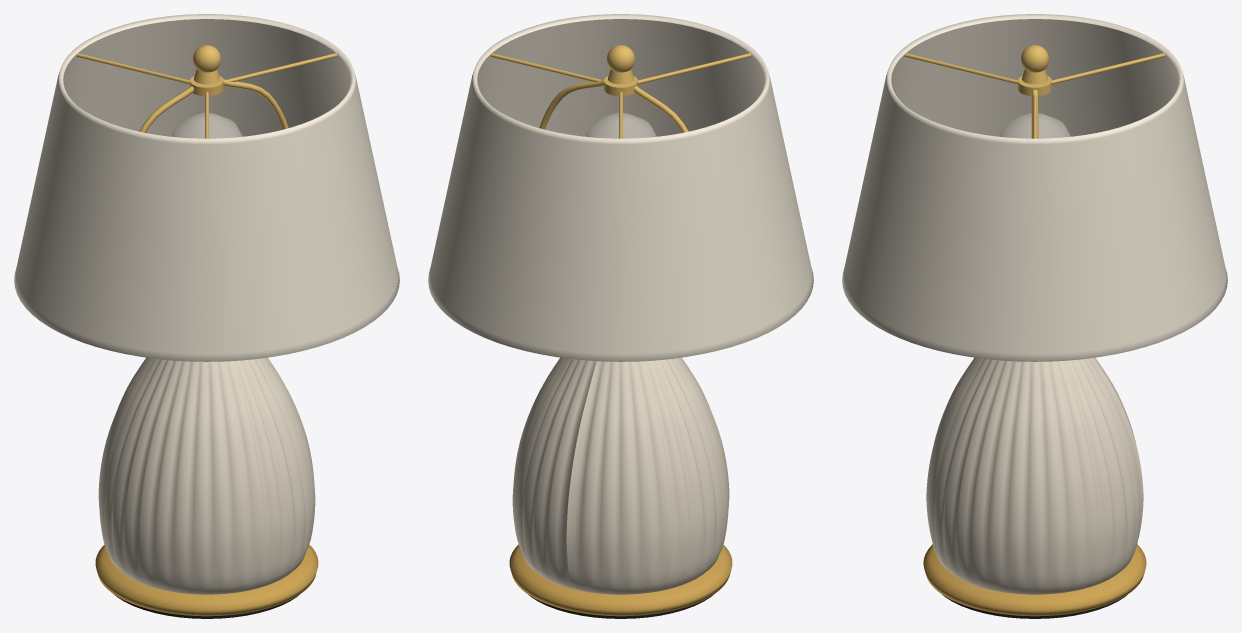
Rendered from table_lamp_realistic.glb.
3 views of the same model, side by side, from view 1: azimuth 30°, elevation 25°; view 2: azimuth 150°, elevation 25°; view 3: azimuth 270°, elevation 25° (orthographic).
Parts seen in each view (by area): view 1: Woven_Linen_Empire_Shade, Fluted_Travertine_Pedestal, Turned_Brass_Plinth, Clear_Glass_A19_Bulb, Brass_Ball_Finial, Harp_Arm_Right, Spider_Wire_3; view 2: Woven_Linen_Empire_Shade, Fluted_Travertine_Pedestal, Turned_Brass_Plinth, Clear_Glass_A19_Bulb, Brass_Ball_Finial, Harp_Arm_Right, Spider_Wire_2; view 3: Woven_Linen_Empire_Shade, Fluted_Travertine_Pedestal, Turned_Brass_Plinth, Clear_Glass_A19_Bulb, Brass_Ball_Finial, Spider_Wire_2, Spider_Wire_3, Felt_Base_Pad.
Part boxes in pixels (left/top/right/bottom): Woven_Linen_Empire_Shade: left=14, top=14, right=399, bottom=361; Fluted_Travertine_Pedestal: left=98, top=357, right=315, bottom=594; Turned_Brass_Plinth: left=95, top=544, right=318, bottom=616; Clear_Glass_A19_Bulb: left=171, top=113, right=242, bottom=138; Brass_Ball_Finial: left=193, top=45, right=220, bottom=72; Harp_Arm_Right: left=223, top=79, right=288, bottom=129; Spider_Wire_3: left=76, top=53, right=189, bottom=84; Woven_Linen_Empire_Shade: left=428, top=14, right=813, bottom=361; Fluted_Travertine_Pedestal: left=512, top=357, right=729, bottom=594; Turned_Brass_Plinth: left=509, top=544, right=732, bottom=616; Clear_Glass_A19_Bulb: left=585, top=112, right=656, bottom=138; Brass_Ball_Finial: left=607, top=45, right=634, bottom=72; Harp_Arm_Right: left=539, top=79, right=604, bottom=129; Spider_Wire_2: left=638, top=53, right=751, bottom=84; Woven_Linen_Empire_Shade: left=842, top=14, right=1227, bottom=361; Fluted_Travertine_Pedestal: left=926, top=357, right=1143, bottom=594; Turned_Brass_Plinth: left=923, top=544, right=1146, bottom=616; Clear_Glass_A19_Bulb: left=999, top=113, right=1070, bottom=138; Brass_Ball_Finial: left=1021, top=45, right=1048, bottom=72; Spider_Wire_2: left=904, top=53, right=1017, bottom=84; Spider_Wire_3: left=1052, top=53, right=1165, bottom=84; Felt_Base_Pad: left=942, top=594, right=1127, bottom=618.
Size of the model in its own units: 0.204 by 0.3085 by 0.204.
